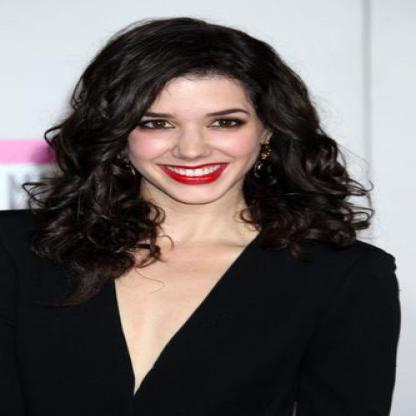long-hair: (4, 202, 382, 236)
